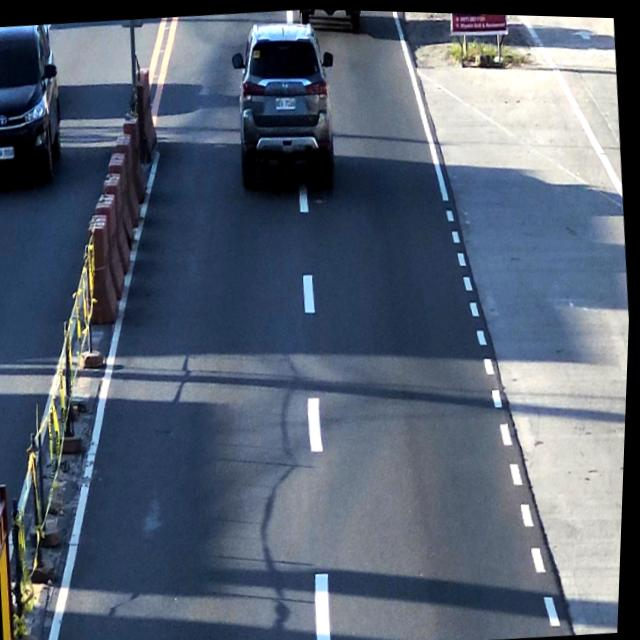Car: (226, 14, 346, 197)
License-Plate: (271, 90, 299, 109)
